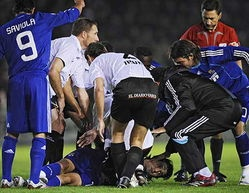falling: (17, 140, 174, 190)
